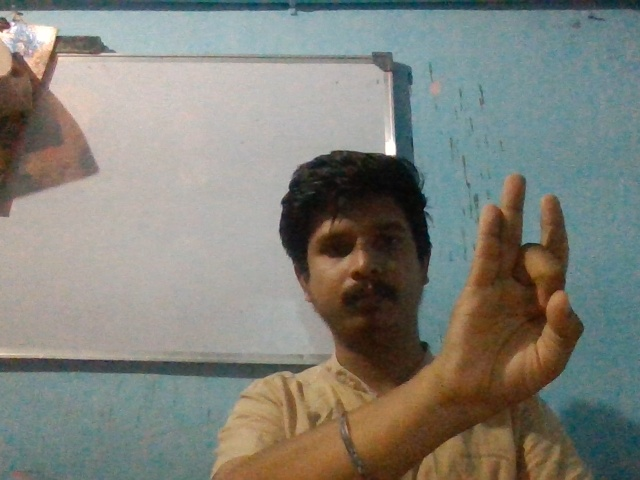Akash: (434, 158, 597, 433)
